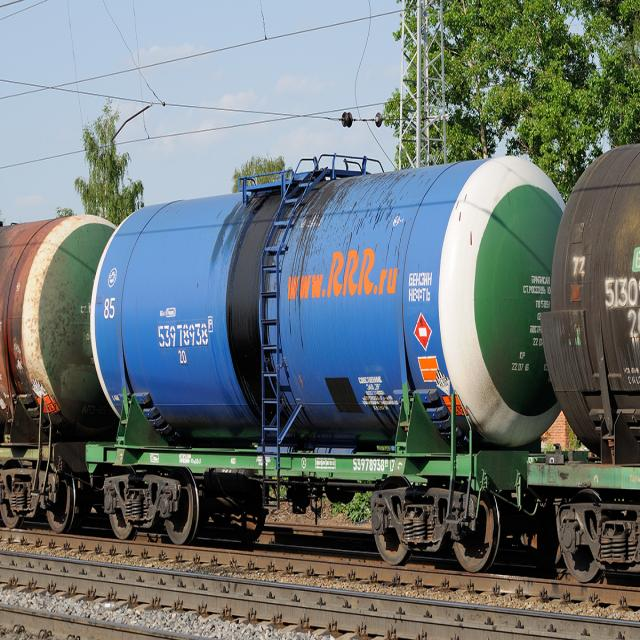tank: (87, 123, 561, 581), (539, 98, 640, 593), (0, 191, 115, 541)
